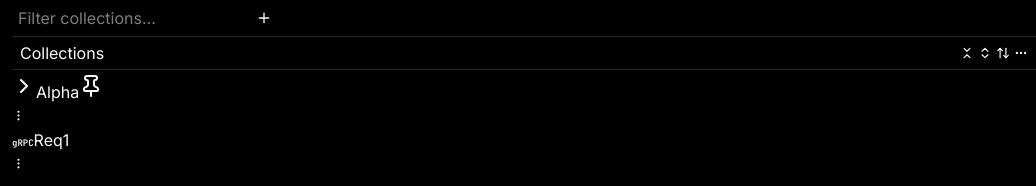
Test: SidebarShell › collapse all hides expanded collections' children
The image size is (1036, 186).
Check: the text "Req1" is shown, box [34, 130, 69, 150]
What coordinates should you click on to do the following:
click the button named "collapse all"
I would click on:
 (967, 53)
Its box is [960, 46, 974, 60].
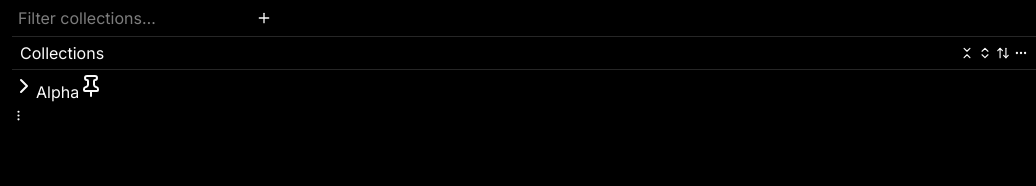
Check: the text "Req1" is gone
